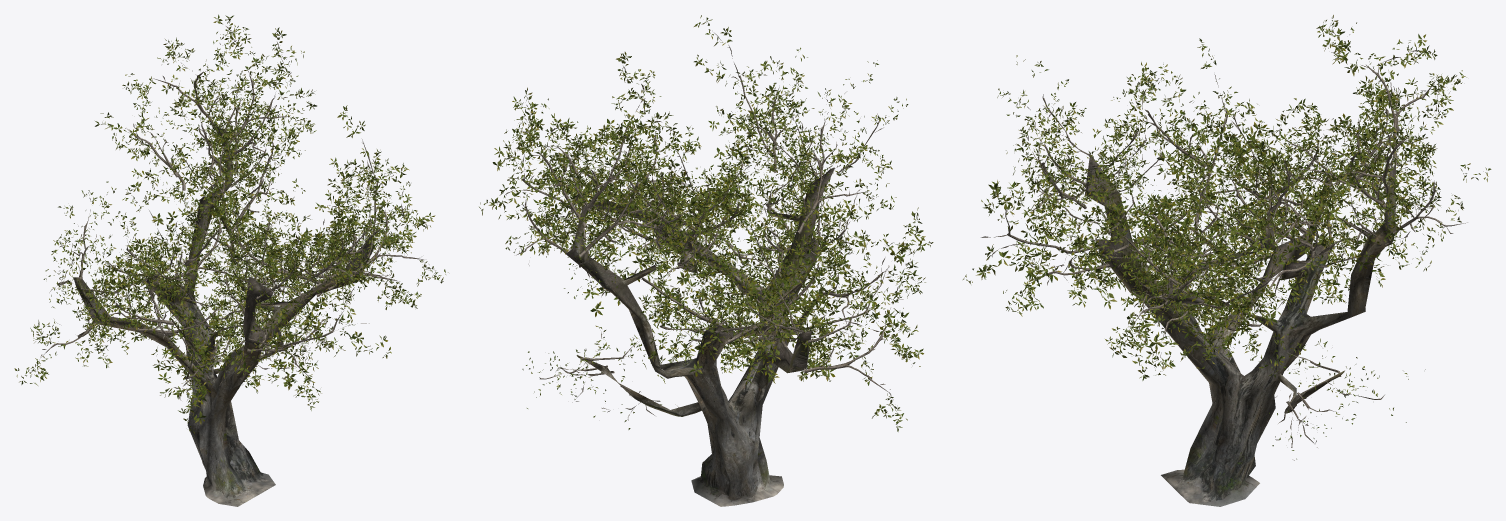
File: island_tree_01.glb
3 renders of one model, left to right at view 1: azimuth 30°, elevation 25°; view 2: azimuth 150°, elevation 25°; view 3: azimuth 270°, elevation 25°, orthographic. The views are drawn at different scales.
Parts seen in each view (by area): view 1: island_tree_01_LOD0; view 2: island_tree_01_LOD0; view 3: island_tree_01_LOD0.
Boxes of the visible parts, box(x1,y1,x2,y2) form: island_tree_01_LOD0: box(14, 14, 448, 506); island_tree_01_LOD0: box(479, 15, 933, 506); island_tree_01_LOD0: box(963, 15, 1491, 506).
Bounding box in the file's own units: 3.93 × 4.17 × 3.99.
Materials: 3 (3 with a texture image).
